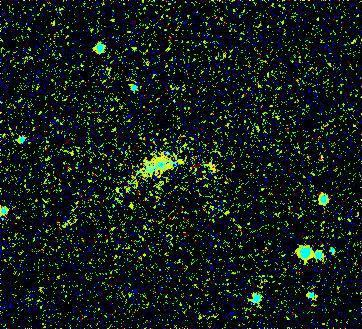star: (167, 146, 197, 176)
